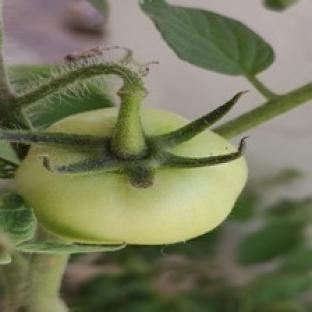Tomato: (16, 145, 246, 245)
